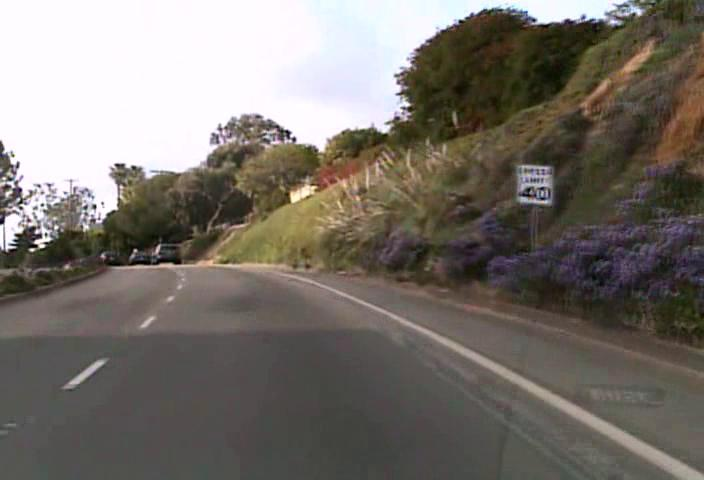speedLimit40: (517, 162, 553, 207)
